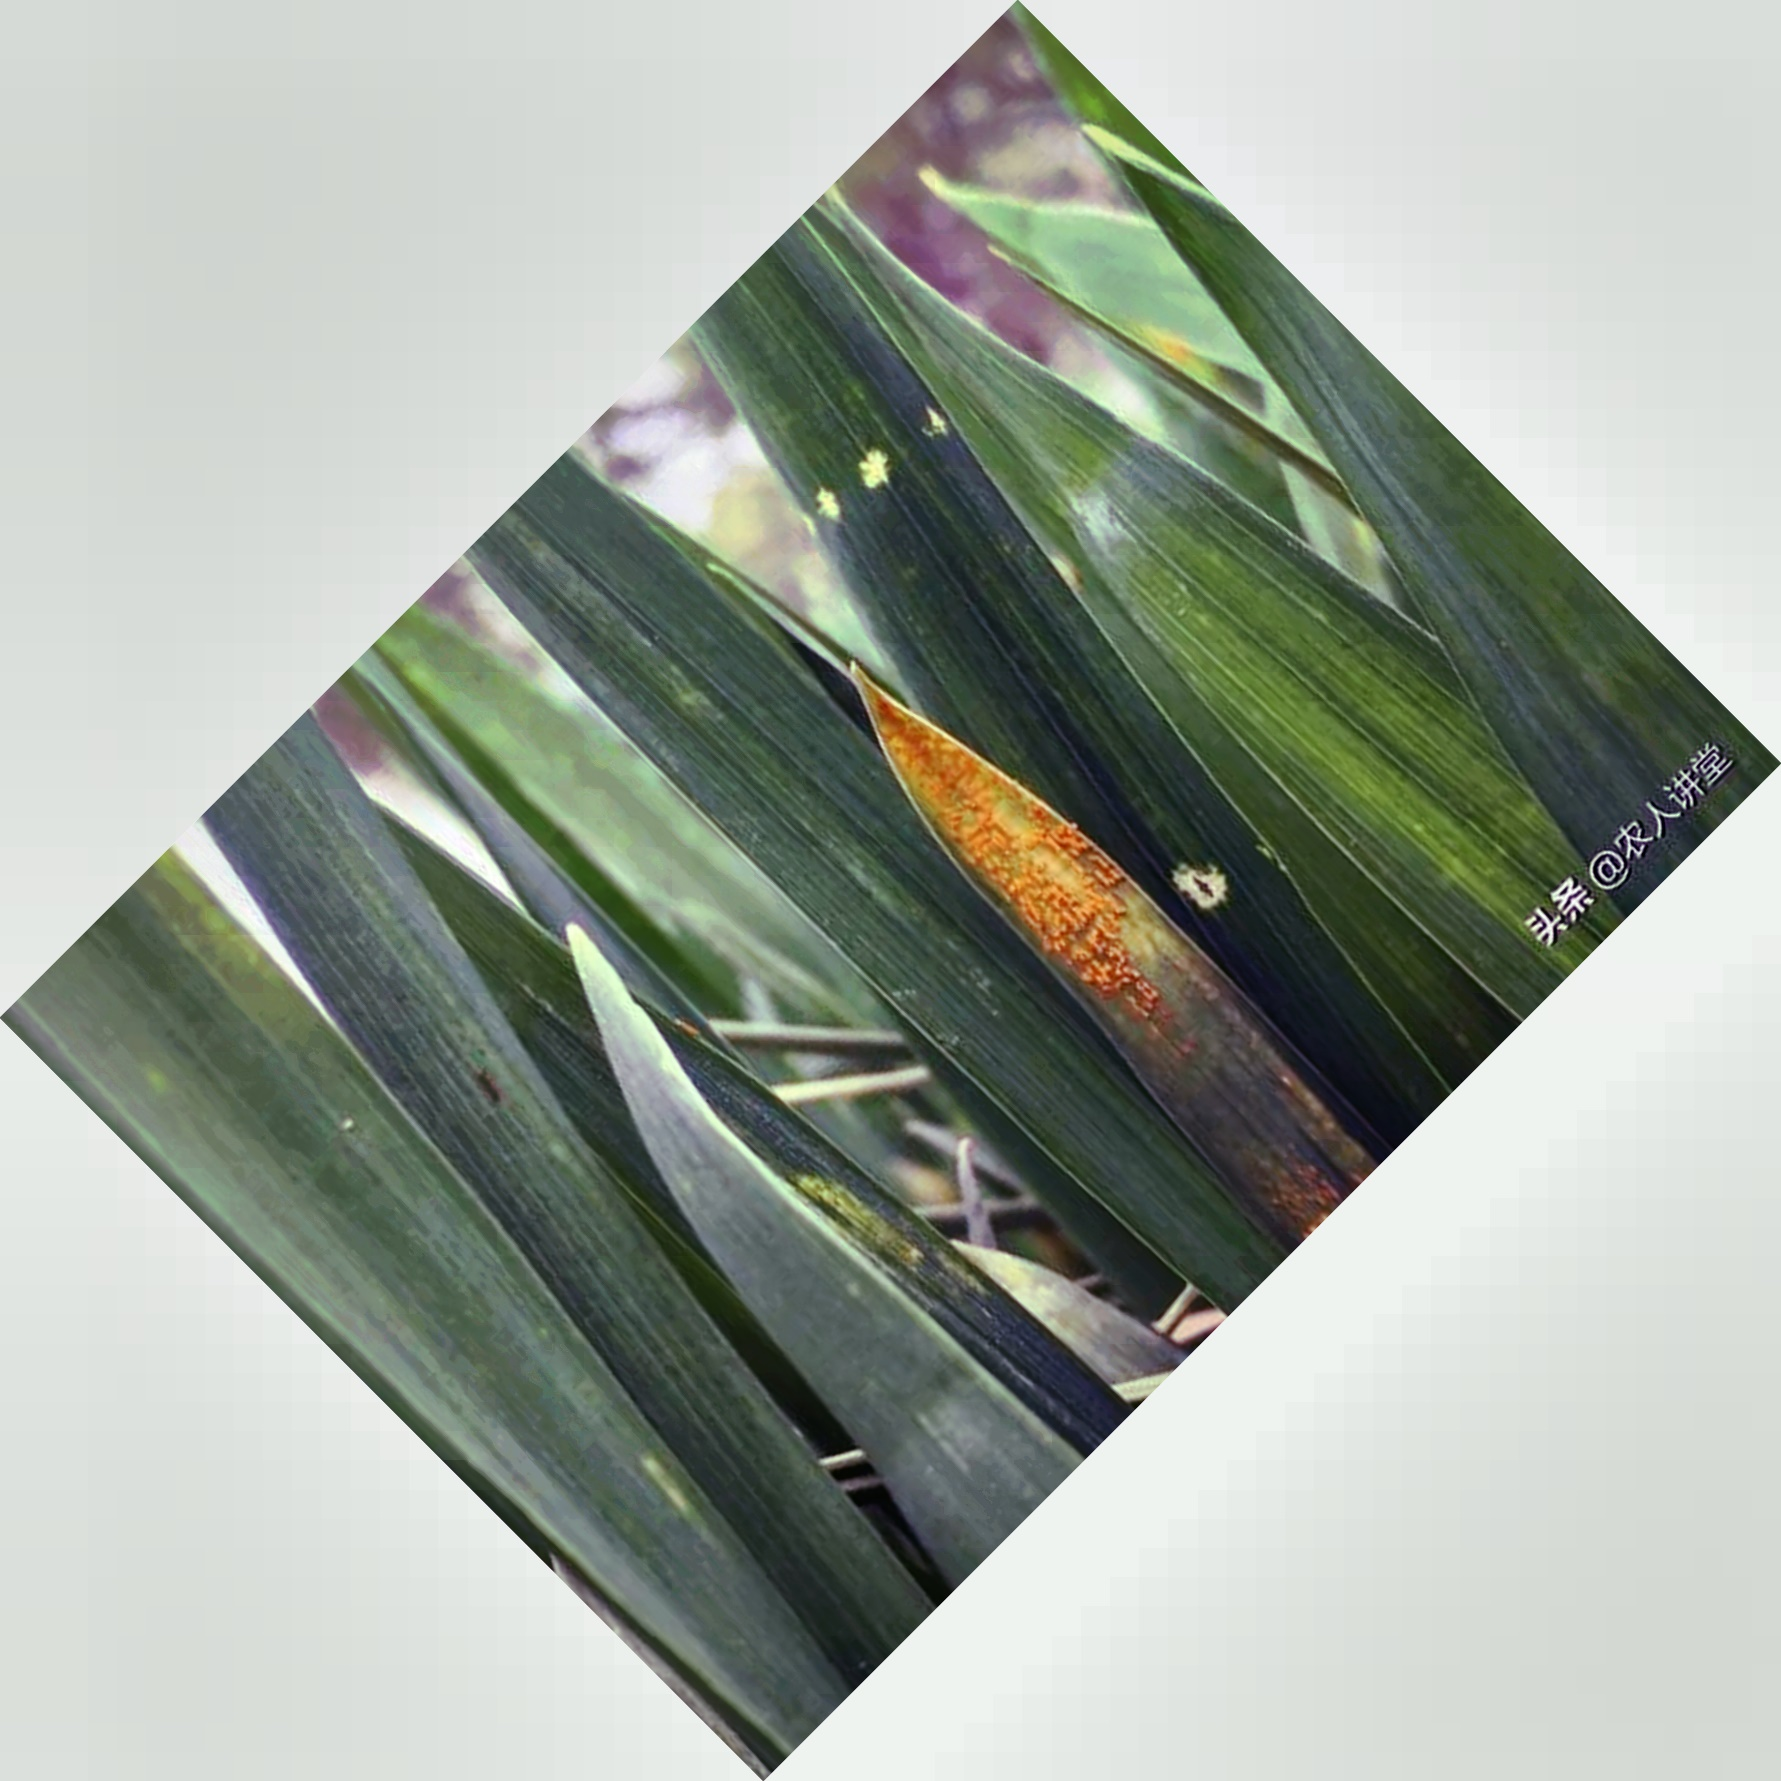Leaf Rust: (860, 692, 1192, 1032)
